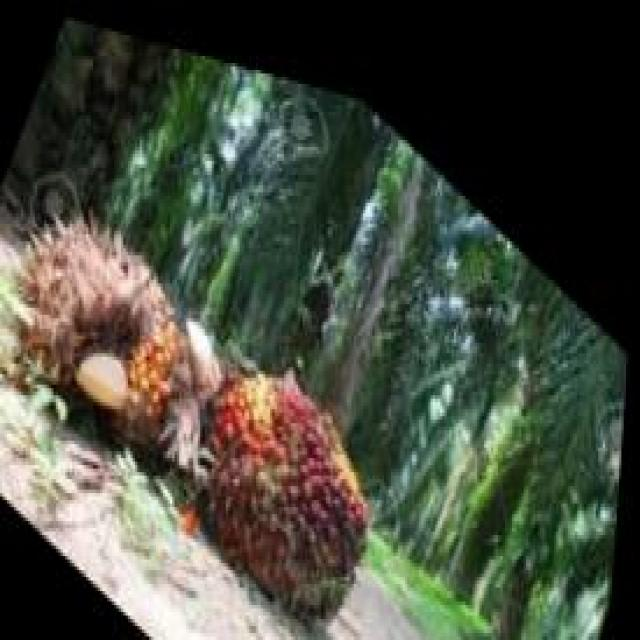Ripefruit: (169, 290, 408, 640)
